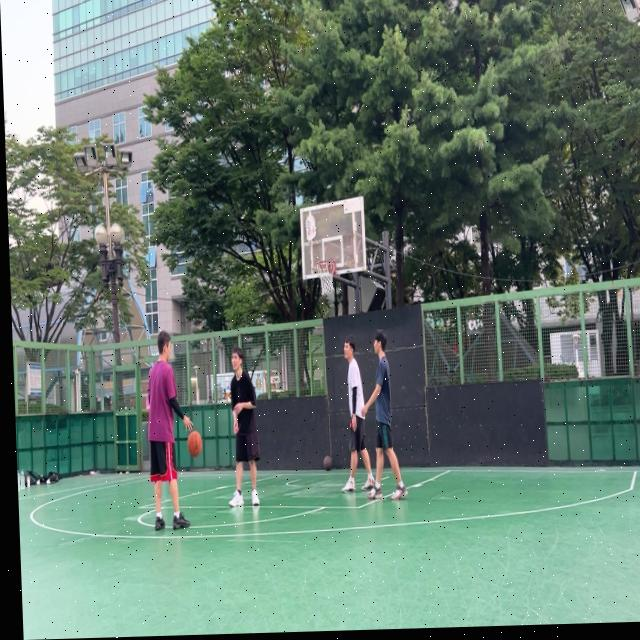basketball: (187, 430, 203, 457), (323, 455, 333, 472)
hoop: (316, 260, 337, 297)
